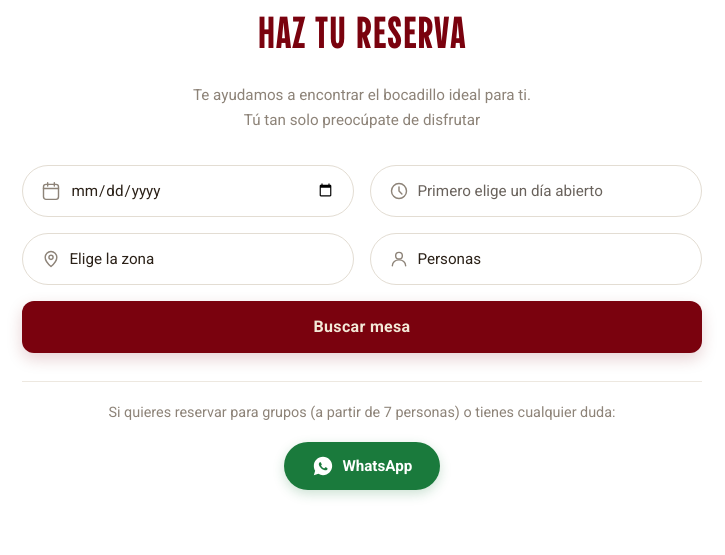
Reservas page › submitting a valid form shows searching state
Fill date (open day)
Type "2030-06-05" into the date field with id "res-date". click: (202, 191)
box: [69,181,335,201]
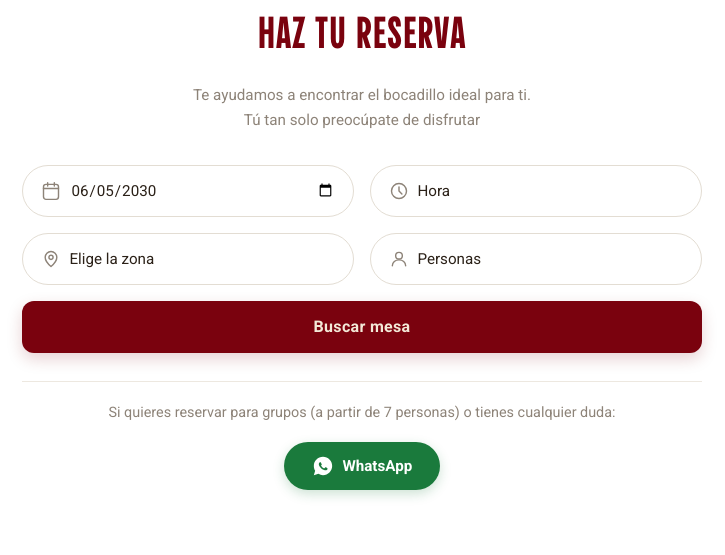
Expected: the dropdown with id "res-time" is enabled
Pick a time slot
Select "18:00" in the dropdown with id "res-time". click: (550, 191)
box: [417,182,683,200]
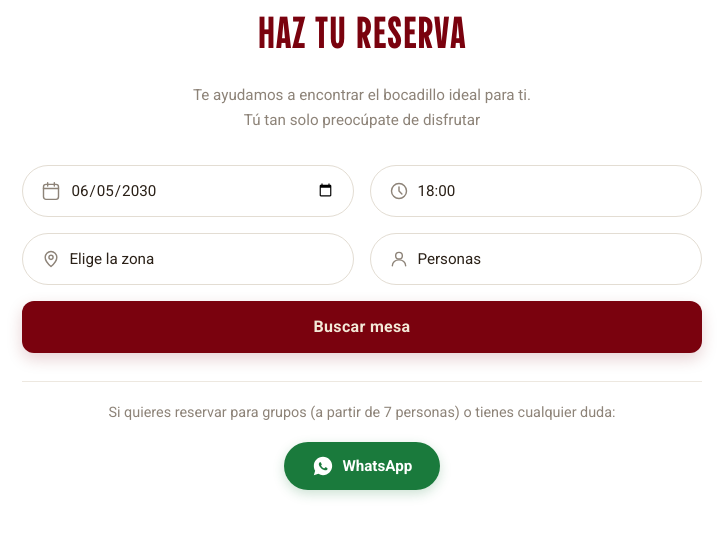
Pick zone
Select "Interior" in the dropdown with id "res-zone". click: (202, 259)
box: [69,250,335,268]
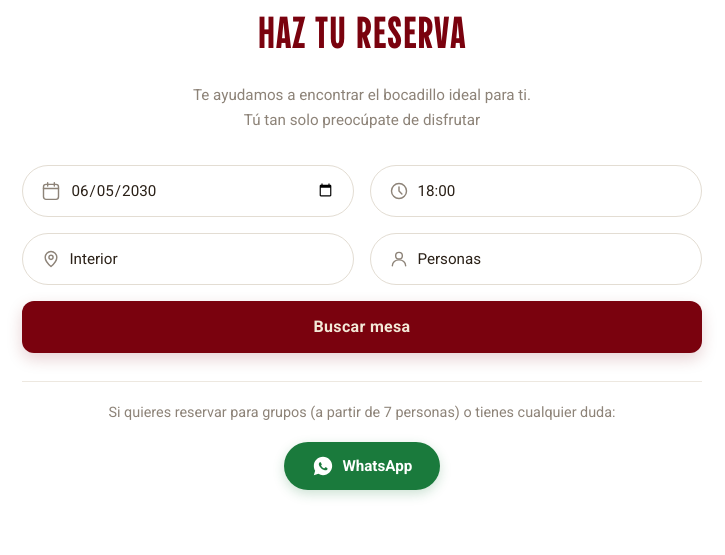
Pick guests
Select "2 personas" in the dropdown with id "res-guests". click: (550, 259)
box: [417,250,683,268]
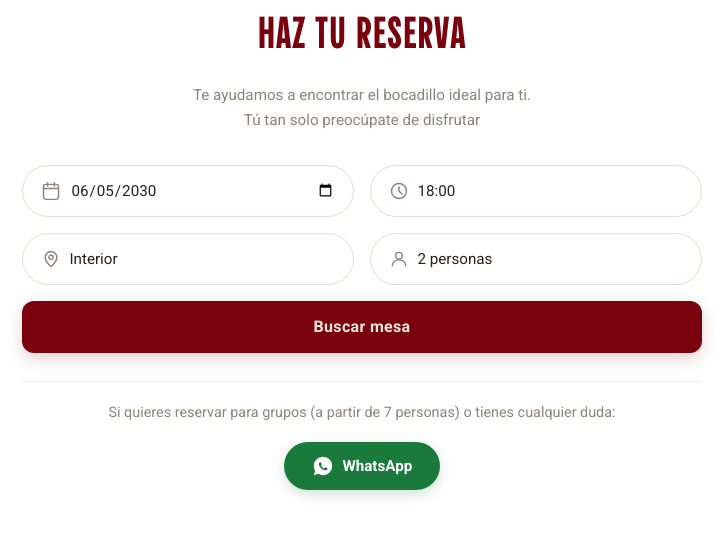
Submit the form named "Formulario de reserva", box [22,165,702,353]
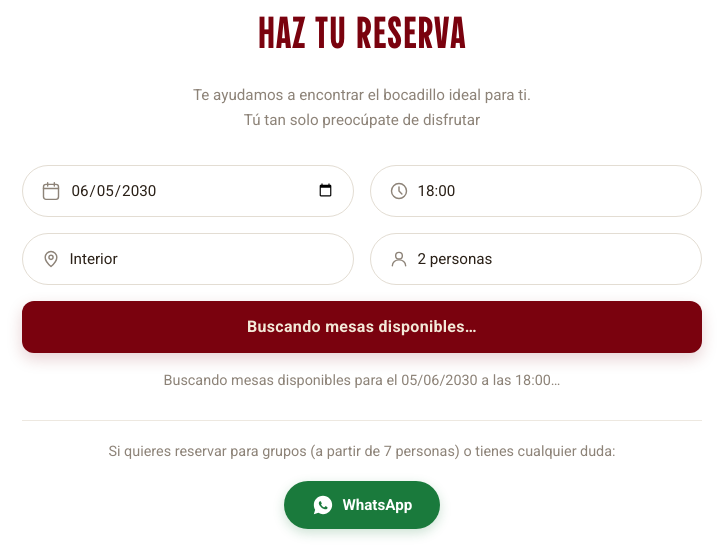
Expected: the button "Buscando mesas disponibles…" is shown, [22,301,702,353]
